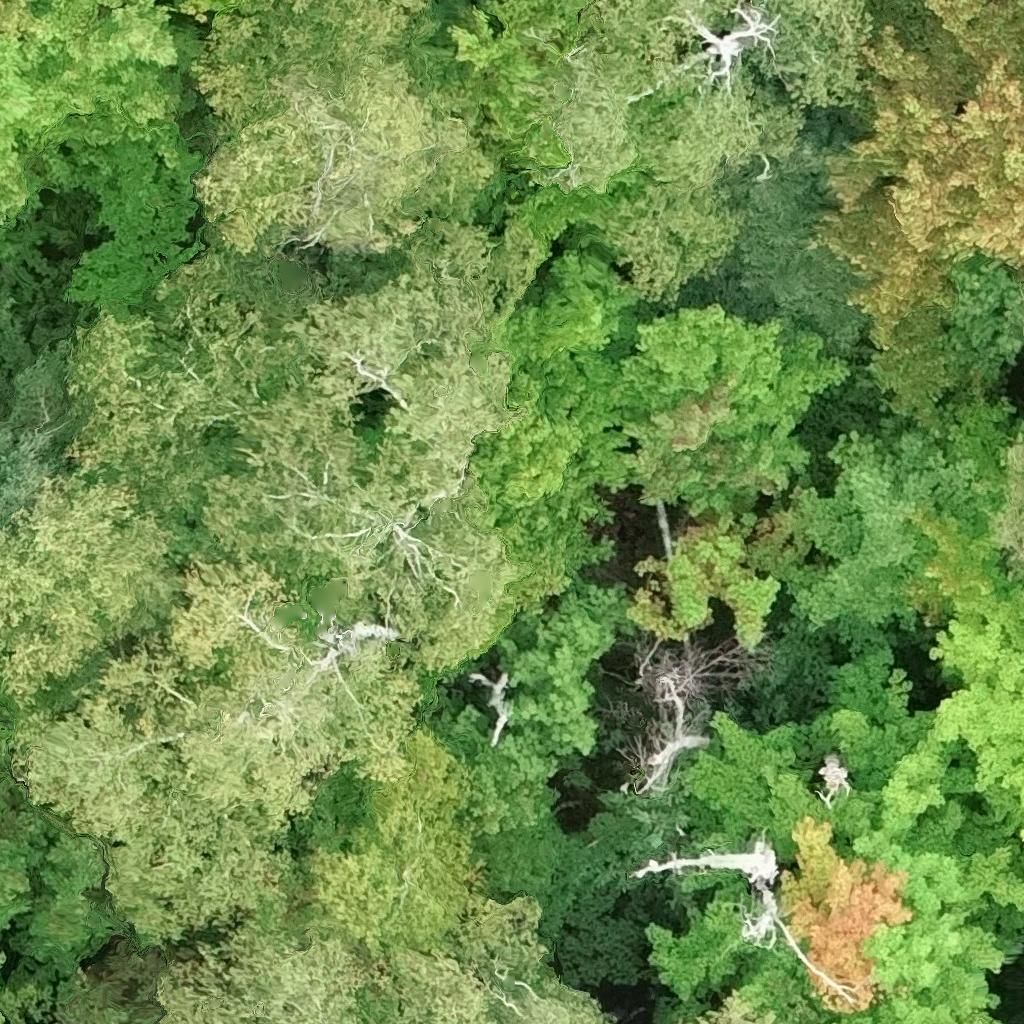crown: (645, 647, 1023, 1023), (521, 0, 878, 307), (192, 373, 533, 670), (8, 615, 300, 949), (813, 0, 1023, 419), (52, 242, 319, 551), (191, 0, 499, 258), (278, 213, 545, 507), (467, 251, 663, 647), (166, 550, 417, 830), (0, 0, 210, 316), (747, 413, 986, 657), (605, 304, 849, 519), (0, 474, 187, 714), (302, 720, 488, 960), (625, 842, 856, 1005), (906, 387, 1023, 651), (733, 130, 868, 343), (776, 811, 913, 1012), (152, 902, 373, 1023), (362, 891, 548, 1023), (498, 584, 634, 761), (627, 501, 783, 649), (929, 614, 1023, 834), (442, 712, 557, 829), (942, 254, 1023, 390), (634, 656, 705, 796), (0, 419, 57, 530), (0, 825, 47, 944), (986, 441, 1023, 581), (499, 979, 616, 1023), (469, 670, 522, 748), (675, 993, 773, 1023), (813, 752, 845, 802), (181, 0, 244, 19), (1008, 0, 1023, 26), (1012, 271, 1023, 298), (0, 952, 10, 975), (1020, 826, 1023, 842)
